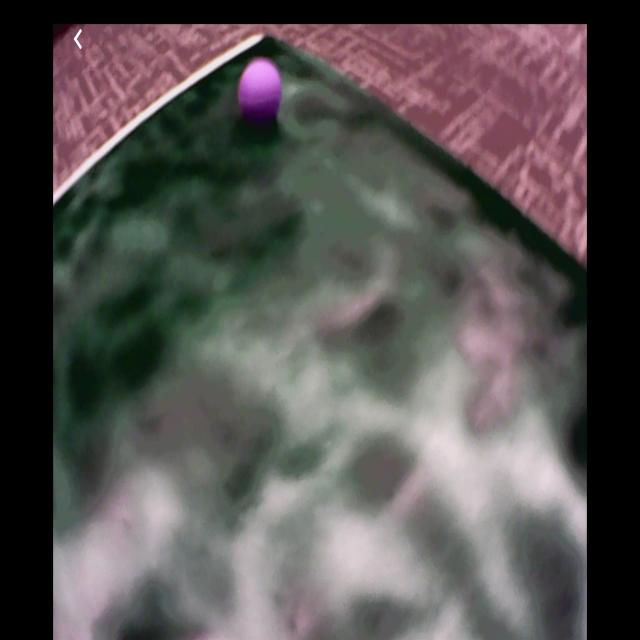ball: (238, 63, 284, 119)
